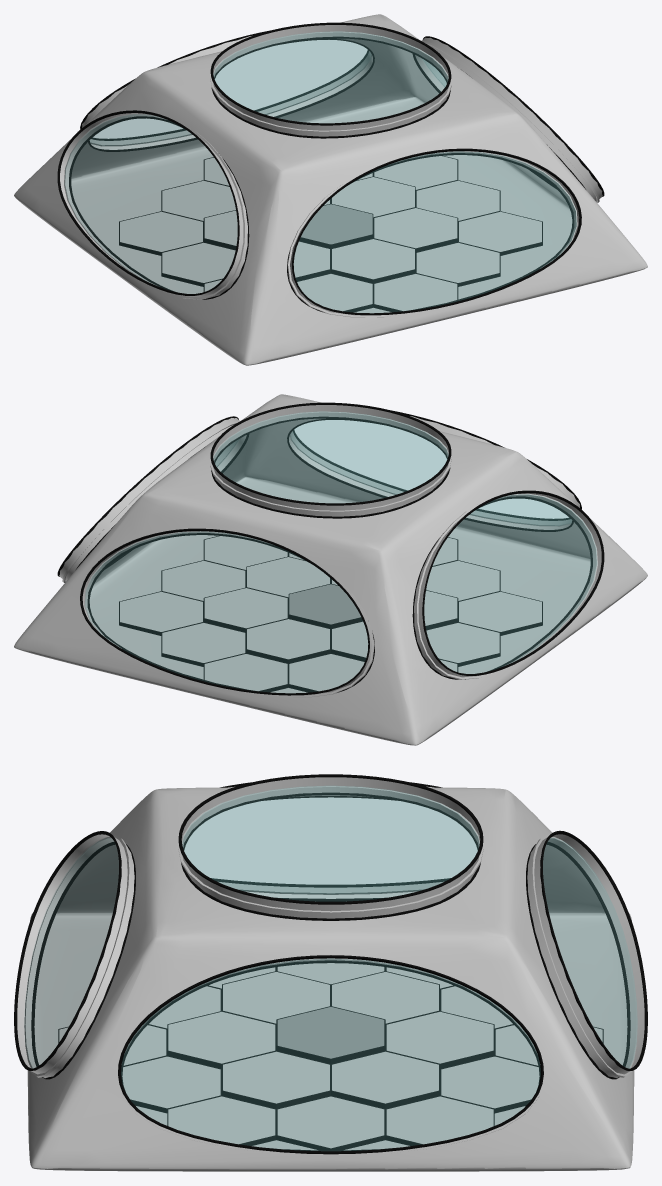
Rendered from F_Garage.FBX.
3 views of the same model, one above another, from view 1: azimuth 30°, elevation 25°; view 2: azimuth 150°, elevation 25°; view 3: azimuth 270°, elevation 25° (orthographic). The views are drawn at different scales.
Parts seen in each view (by area): view 1: Garage_F_Structure, Garage_F_Glass, Garage_F_Stage, Garage_F_Borders, stage; view 2: Garage_F_Structure, Garage_F_Glass, Garage_F_Stage, Garage_F_Borders, stage; view 3: Garage_F_Structure, Garage_F_Glass, Garage_F_Stage, Garage_F_Borders, stage.
Boxes of the visible parts, x1,y1,x2,y2 form: Garage_F_Structure: [14, 14, 647, 365]; Garage_F_Glass: [64, 31, 576, 312]; Garage_F_Stage: [119, 155, 542, 312]; Garage_F_Borders: [57, 22, 604, 315]; stage: [301, 204, 372, 244]; Garage_F_Structure: [14, 394, 647, 745]; Garage_F_Glass: [85, 411, 597, 692]; Garage_F_Stage: [119, 535, 542, 692]; Garage_F_Borders: [57, 402, 604, 695]; stage: [289, 584, 360, 624]; Garage_F_Structure: [17, 777, 644, 1171]; Garage_F_Glass: [24, 786, 637, 1150]; Garage_F_Stage: [58, 963, 603, 1150]; Garage_F_Borders: [14, 774, 647, 1154]; stage: [277, 1007, 384, 1058].
Size of the model in its own units: 30.72 by 11.19 by 30.72.
